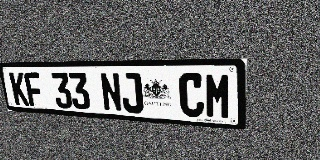3: (68, 72, 91, 110), (51, 72, 73, 109)
C: (178, 73, 204, 118)
F: (23, 72, 44, 107)
J: (120, 72, 144, 114)
K: (9, 72, 29, 106)
M: (205, 73, 232, 120)
N: (99, 72, 123, 112)
